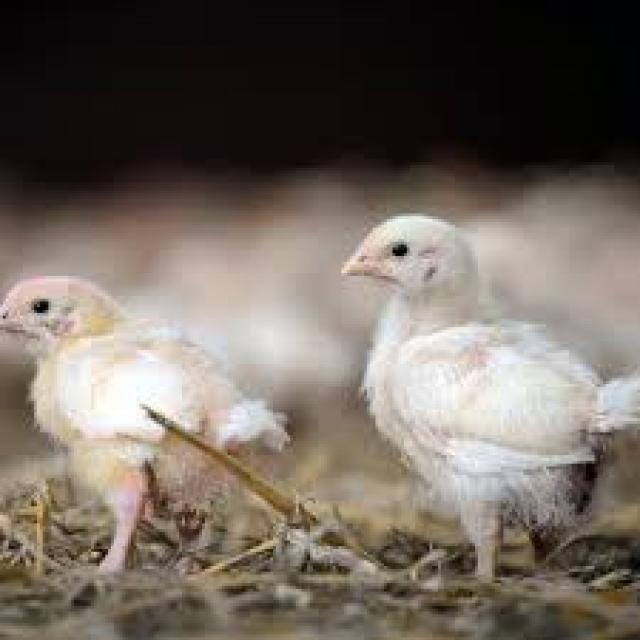poussin: (340, 210, 640, 589), (0, 270, 295, 564)
